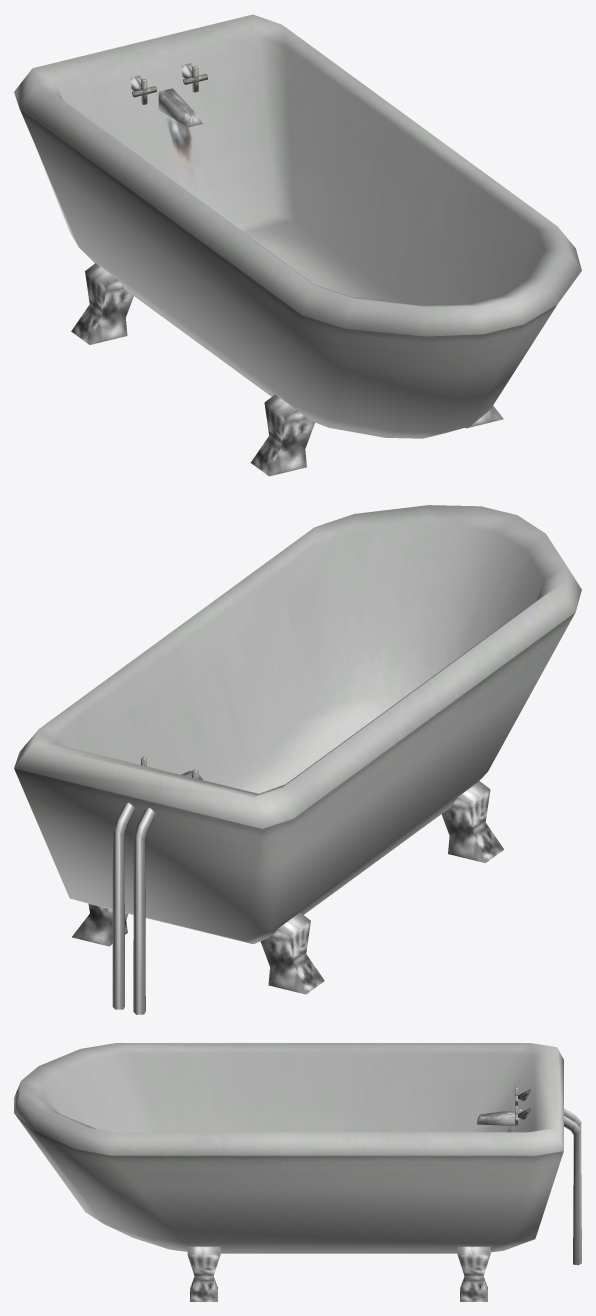
The model's file is cleanclawtub.fbx.
3 views of the same model, one above another, from view 1: azimuth 30°, elevation 25°; view 2: azimuth 150°, elevation 25°; view 3: azimuth 270°, elevation 25° (orthographic). The views are drawn at different scales.
Parts seen in each view (by area): view 1: mesh_0; view 2: mesh_0; view 3: mesh_0.
Part boxes in pixels (x1,y1,x2,y2): mesh_0: [14, 14, 581, 476]; mesh_0: [14, 505, 581, 1014]; mesh_0: [14, 1043, 581, 1301].
Size of the model in its own units: 79.29 by 63.24 by 189.
Materials: 1 (1 with a texture image).
